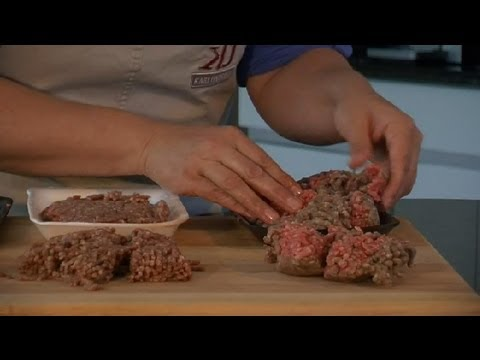ground_beef: (269, 166, 405, 287), (22, 224, 196, 284), (49, 189, 186, 237)
